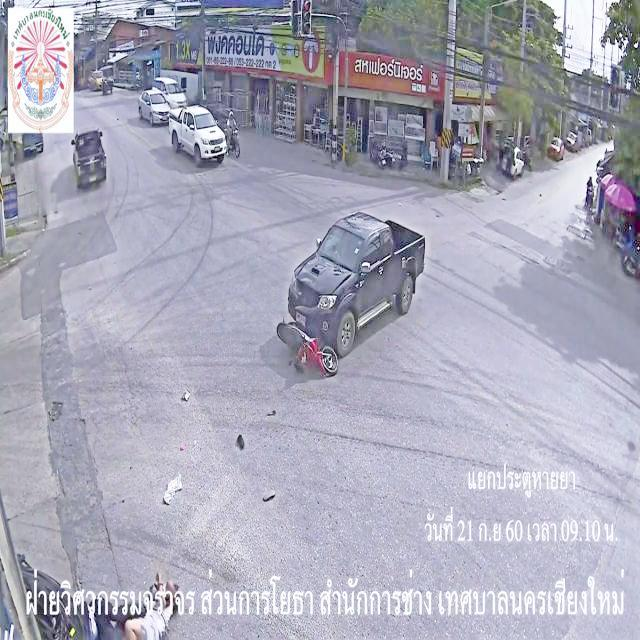Car: (283, 214, 426, 364), (171, 104, 226, 162), (70, 130, 110, 189), (138, 86, 168, 128), (153, 77, 187, 108)
Minor Accident: (266, 210, 427, 390)
Motor: (272, 308, 342, 382)
Not Accident: (137, 74, 245, 170), (166, 102, 244, 169), (544, 131, 582, 163)
